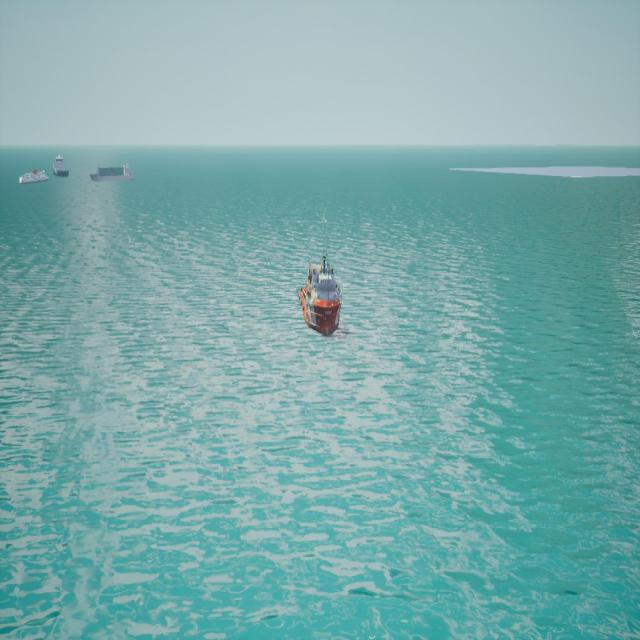tug boat: (301, 259, 343, 337)
